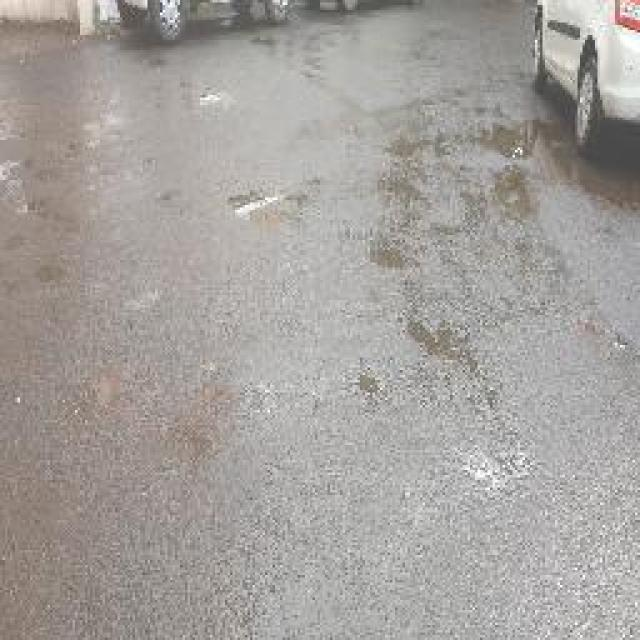stagnation: (374, 110, 488, 394), (230, 160, 332, 253)
